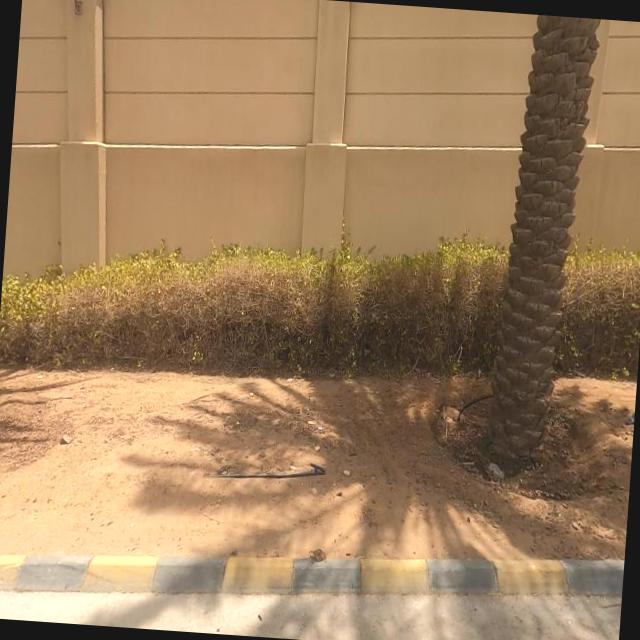debris: (213, 422, 376, 523)
